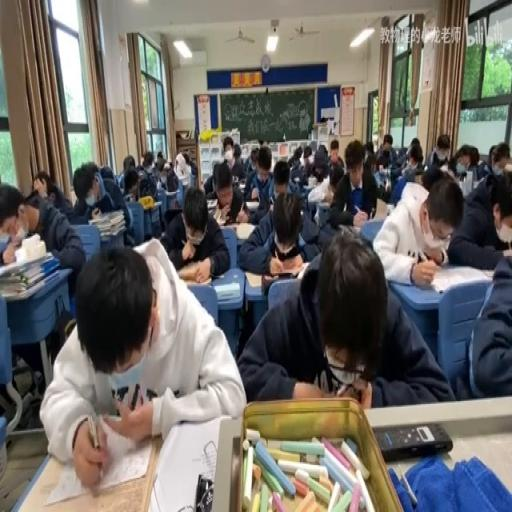calculator: (424, 263, 491, 293), (359, 218, 384, 246), (214, 282, 240, 300), (371, 195, 390, 219), (235, 222, 257, 242), (315, 202, 331, 226), (372, 168, 390, 189), (243, 270, 263, 288), (181, 272, 210, 284), (296, 260, 310, 279), (213, 204, 226, 224), (472, 174, 486, 189), (482, 266, 498, 277), (0, 227, 10, 244), (219, 222, 236, 232), (205, 196, 217, 208), (245, 199, 259, 209), (179, 174, 190, 186), (148, 199, 161, 209), (236, 180, 245, 190), (211, 273, 224, 279)
paper: (42, 234, 244, 488), (237, 226, 448, 407), (0, 179, 82, 290), (236, 179, 318, 273), (447, 161, 512, 270), (162, 182, 228, 282), (69, 160, 133, 252), (326, 138, 378, 228), (456, 144, 492, 182), (134, 152, 160, 199), (388, 162, 415, 205), (306, 145, 332, 186), (427, 132, 453, 171), (374, 132, 395, 170), (228, 142, 246, 184), (419, 162, 444, 192), (122, 166, 140, 202), (30, 171, 53, 199), (272, 160, 290, 190), (162, 159, 178, 191), (406, 138, 422, 166), (257, 145, 272, 174), (286, 144, 302, 169), (288, 176, 306, 198), (329, 138, 341, 168), (330, 162, 343, 188), (488, 142, 498, 172), (393, 145, 406, 168), (363, 139, 374, 161), (99, 164, 115, 179), (174, 158, 185, 176), (122, 154, 134, 170), (155, 154, 165, 170), (152, 170, 162, 186), (468, 155, 478, 169), (250, 148, 258, 165), (182, 151, 190, 165), (304, 148, 310, 162)
person: (374, 420, 452, 458), (194, 471, 214, 509), (262, 273, 298, 294), (338, 222, 360, 237), (232, 176, 239, 185)
